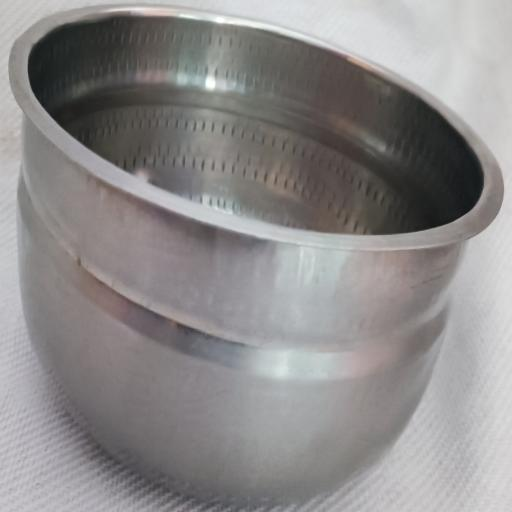vessel: (9, 5, 503, 501)
